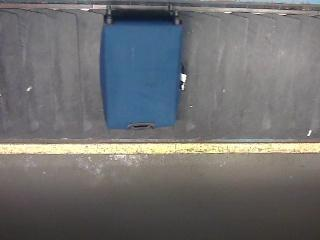Suitcase: (101, 21, 182, 129)
